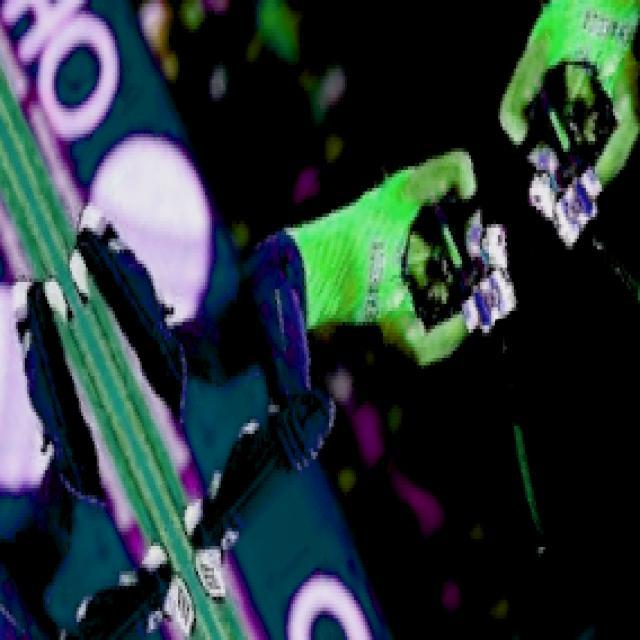bat: (460, 339, 581, 552)
